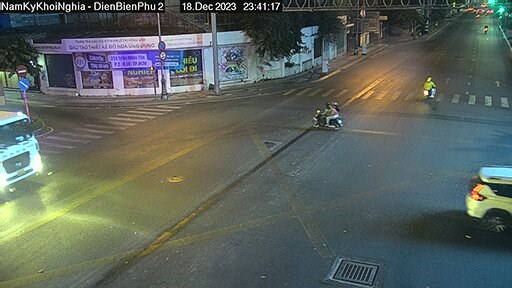car: (448, 156, 509, 243)
motorbike: (310, 99, 349, 129), (415, 77, 438, 105)
truck: (1, 100, 62, 196)
